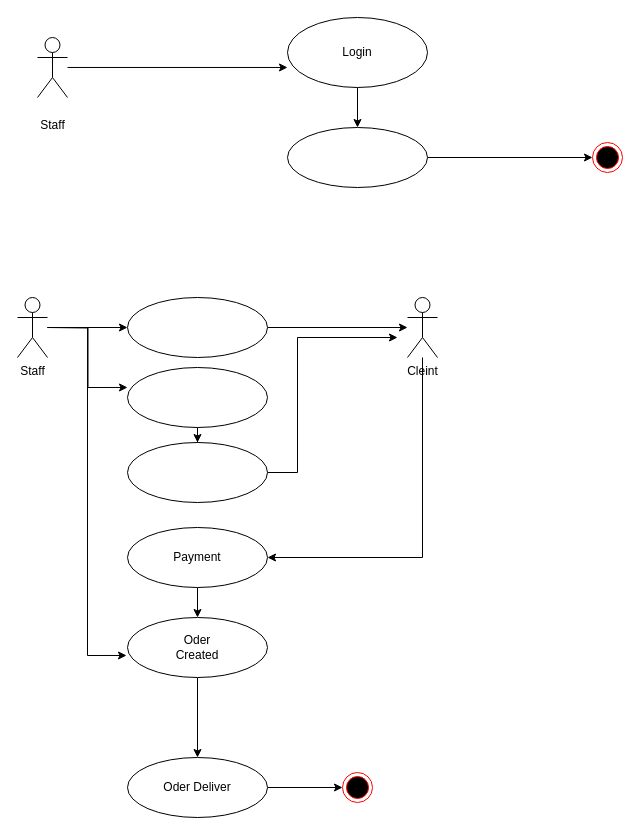
Image size: 640x835. Some labels were removed from this diagram. The shapes that lost their labels are listed below. From the top down, each one's centre as x and y in pixels, then its label:
At pixel 357 157: "Dashboard -Menu".
At pixel 197 327: "ContactInfo/ Customer Detail".
At pixel 197 397: "Create Order".
At pixel 197 472: "Invoice Generation".
